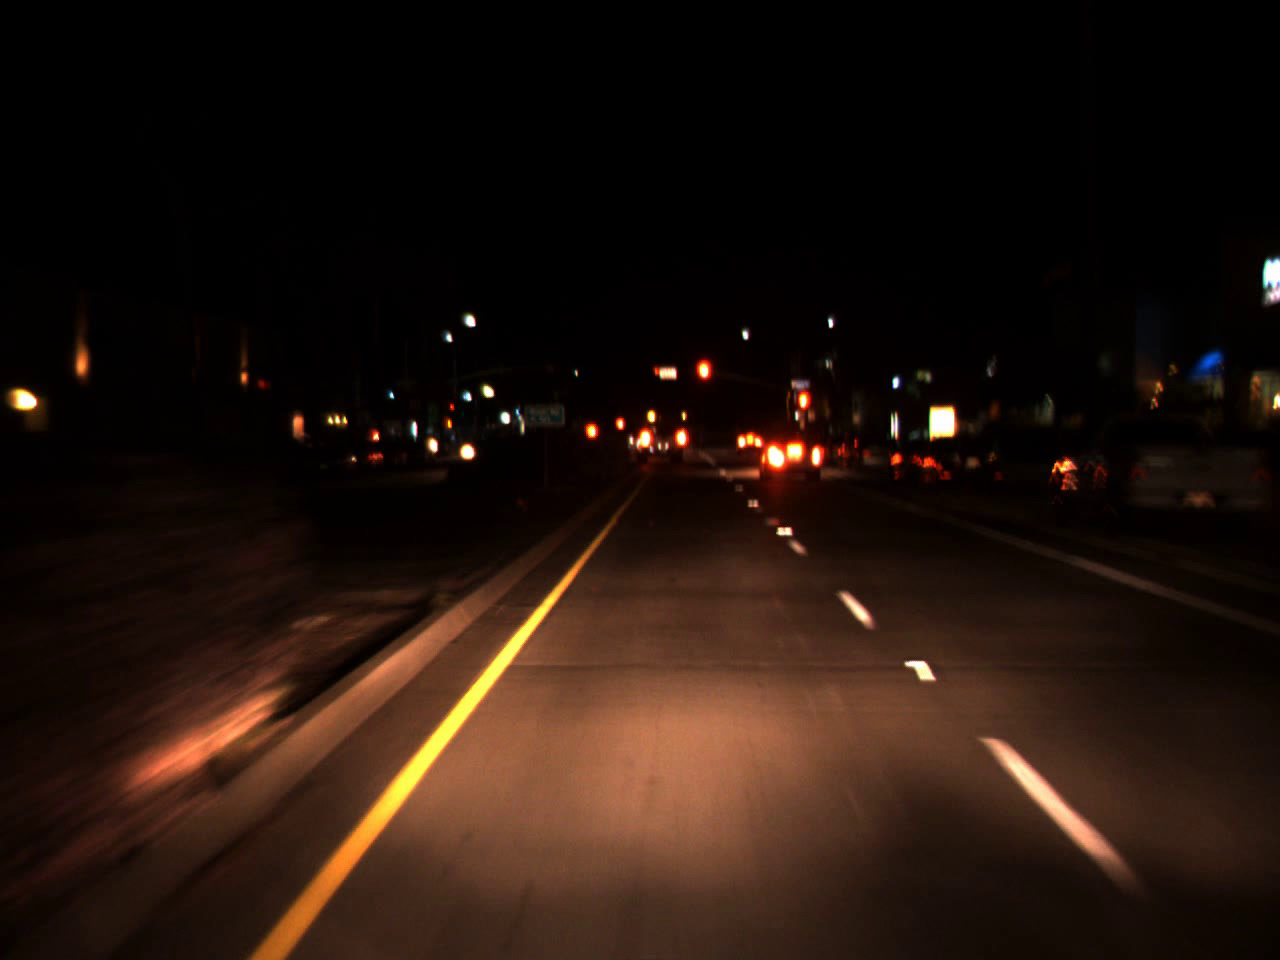stop: (693, 356, 714, 404), (795, 387, 813, 435), (653, 366, 660, 382), (449, 402, 455, 418)
